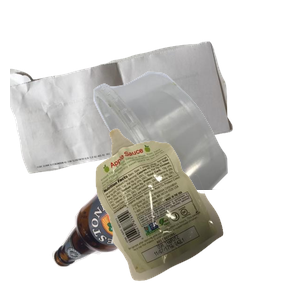glass: (49, 145, 229, 300)
paper: (10, 39, 236, 205)
plastic: (91, 69, 300, 249)
trash: (93, 126, 300, 300)
